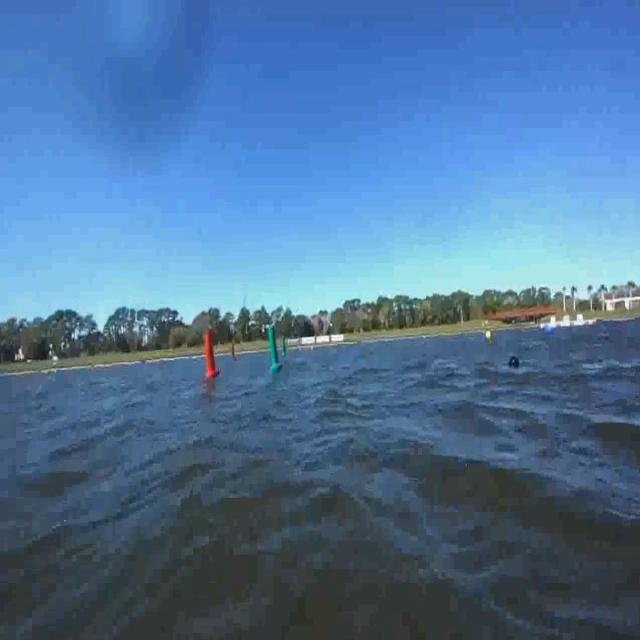black-buoy: (507, 350, 523, 375)
green-column-buoy: (267, 326, 283, 373), (282, 338, 288, 356)
red-column-buoy: (202, 330, 221, 380), (230, 343, 237, 362)
yellow-buoy: (486, 328, 494, 344)
